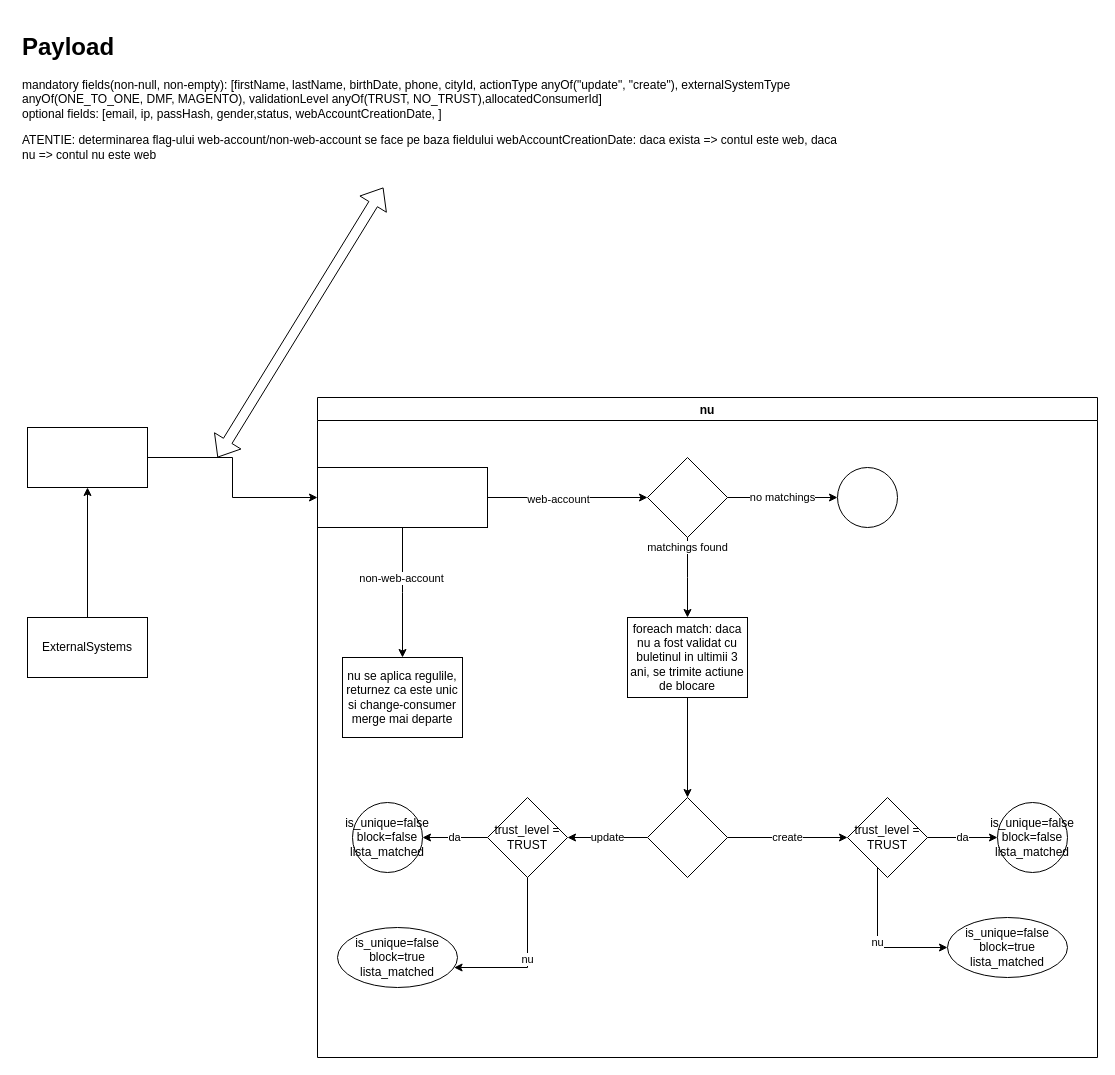
Image size: 1115x1075. Some labels were removed from this diagram. The shapes that lost their labels are listed below. From the top down, each one's centre as x and y in pixels, then its label:
(x=87, y=457): /change-consumer
(x=402, y=497): /checkUniquenessNonBlocked
(x=687, y=497): apply rules
(x=867, y=497): return is_unique=true
(x=687, y=837): action_type
